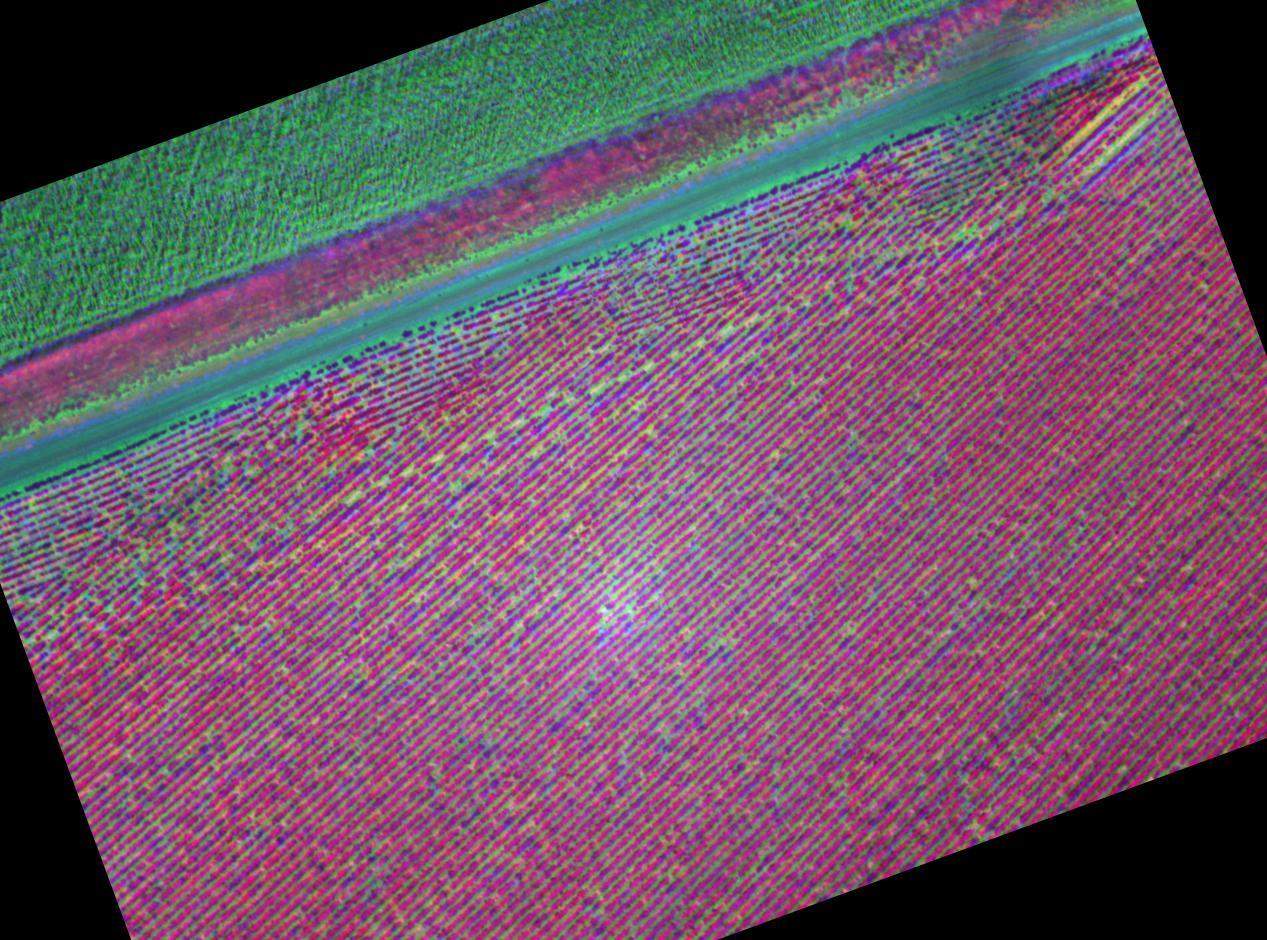dc: (1109, 148, 1116, 154), (955, 229, 961, 236), (1103, 111, 1109, 116), (844, 219, 849, 224), (296, 430, 300, 435), (451, 483, 455, 487), (723, 327, 726, 331), (647, 428, 650, 431)
